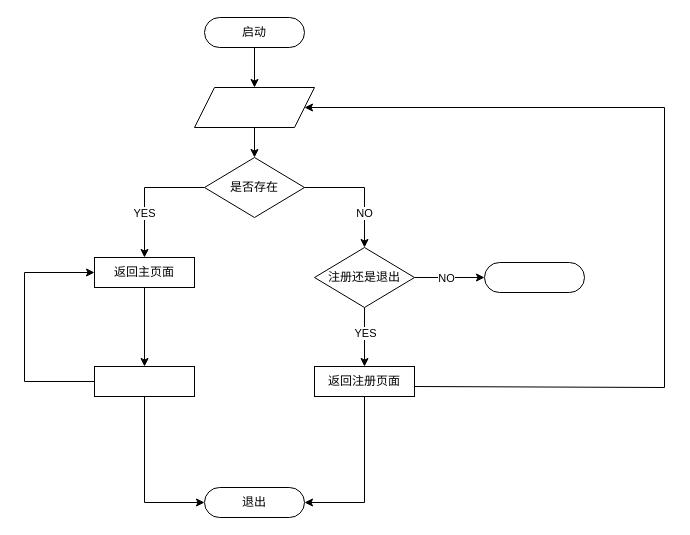
Image size: 690x535. Some labels were removed from this diagram. The box of each missing label's shape, as (x1, y1, x2, y2) in pixels:
增删改查操作: (94, 366, 194, 396)
用户信息输入: (194, 86, 314, 128)
退出应用: (484, 262, 584, 292)
